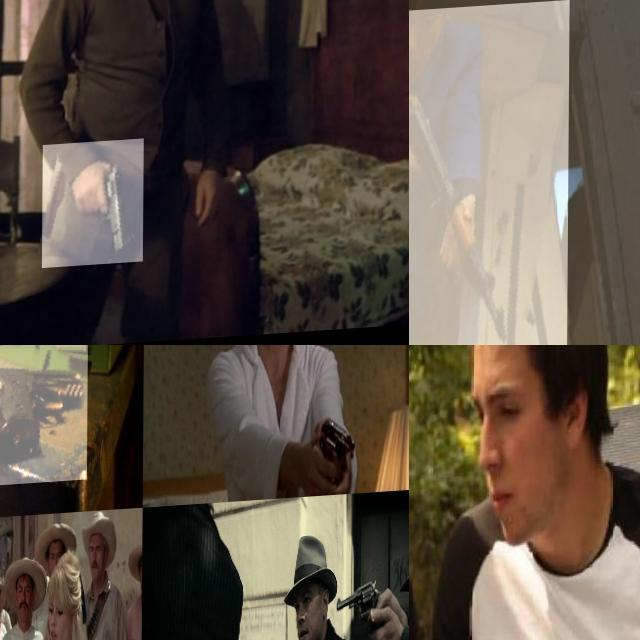gun-knife-thesis - v11 Yolov5 augmented: (409, 6, 570, 345), (42, 142, 144, 270), (0, 345, 87, 489), (326, 566, 389, 640), (308, 422, 358, 489)
